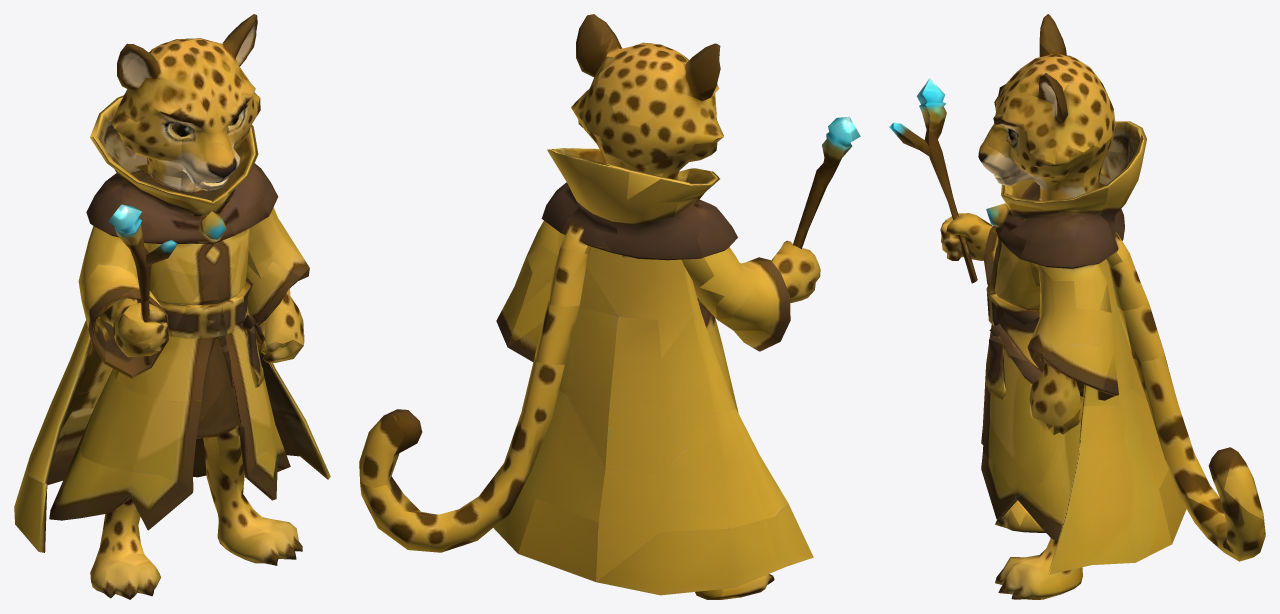
The model's file is podfindor.glb.
3 renders of one model, left to right at view 1: azimuth 30°, elevation 25°; view 2: azimuth 150°, elevation 25°; view 3: azimuth 270°, elevation 25°, orthographic. The views are drawn at different scales.
Parts seen in each view (by area): view 1: mesh_node; view 2: mesh_node; view 3: mesh_node.
Boxes of the visible parts, x1,y1,x2,y2 form: mesh_node: (14,14,330,599); mesh_node: (359,14,860,599); mesh_node: (889,14,1265,599).
Size of the model in its own units: 0.6719 by 1 by 0.668.
1 material, 1 textured.
